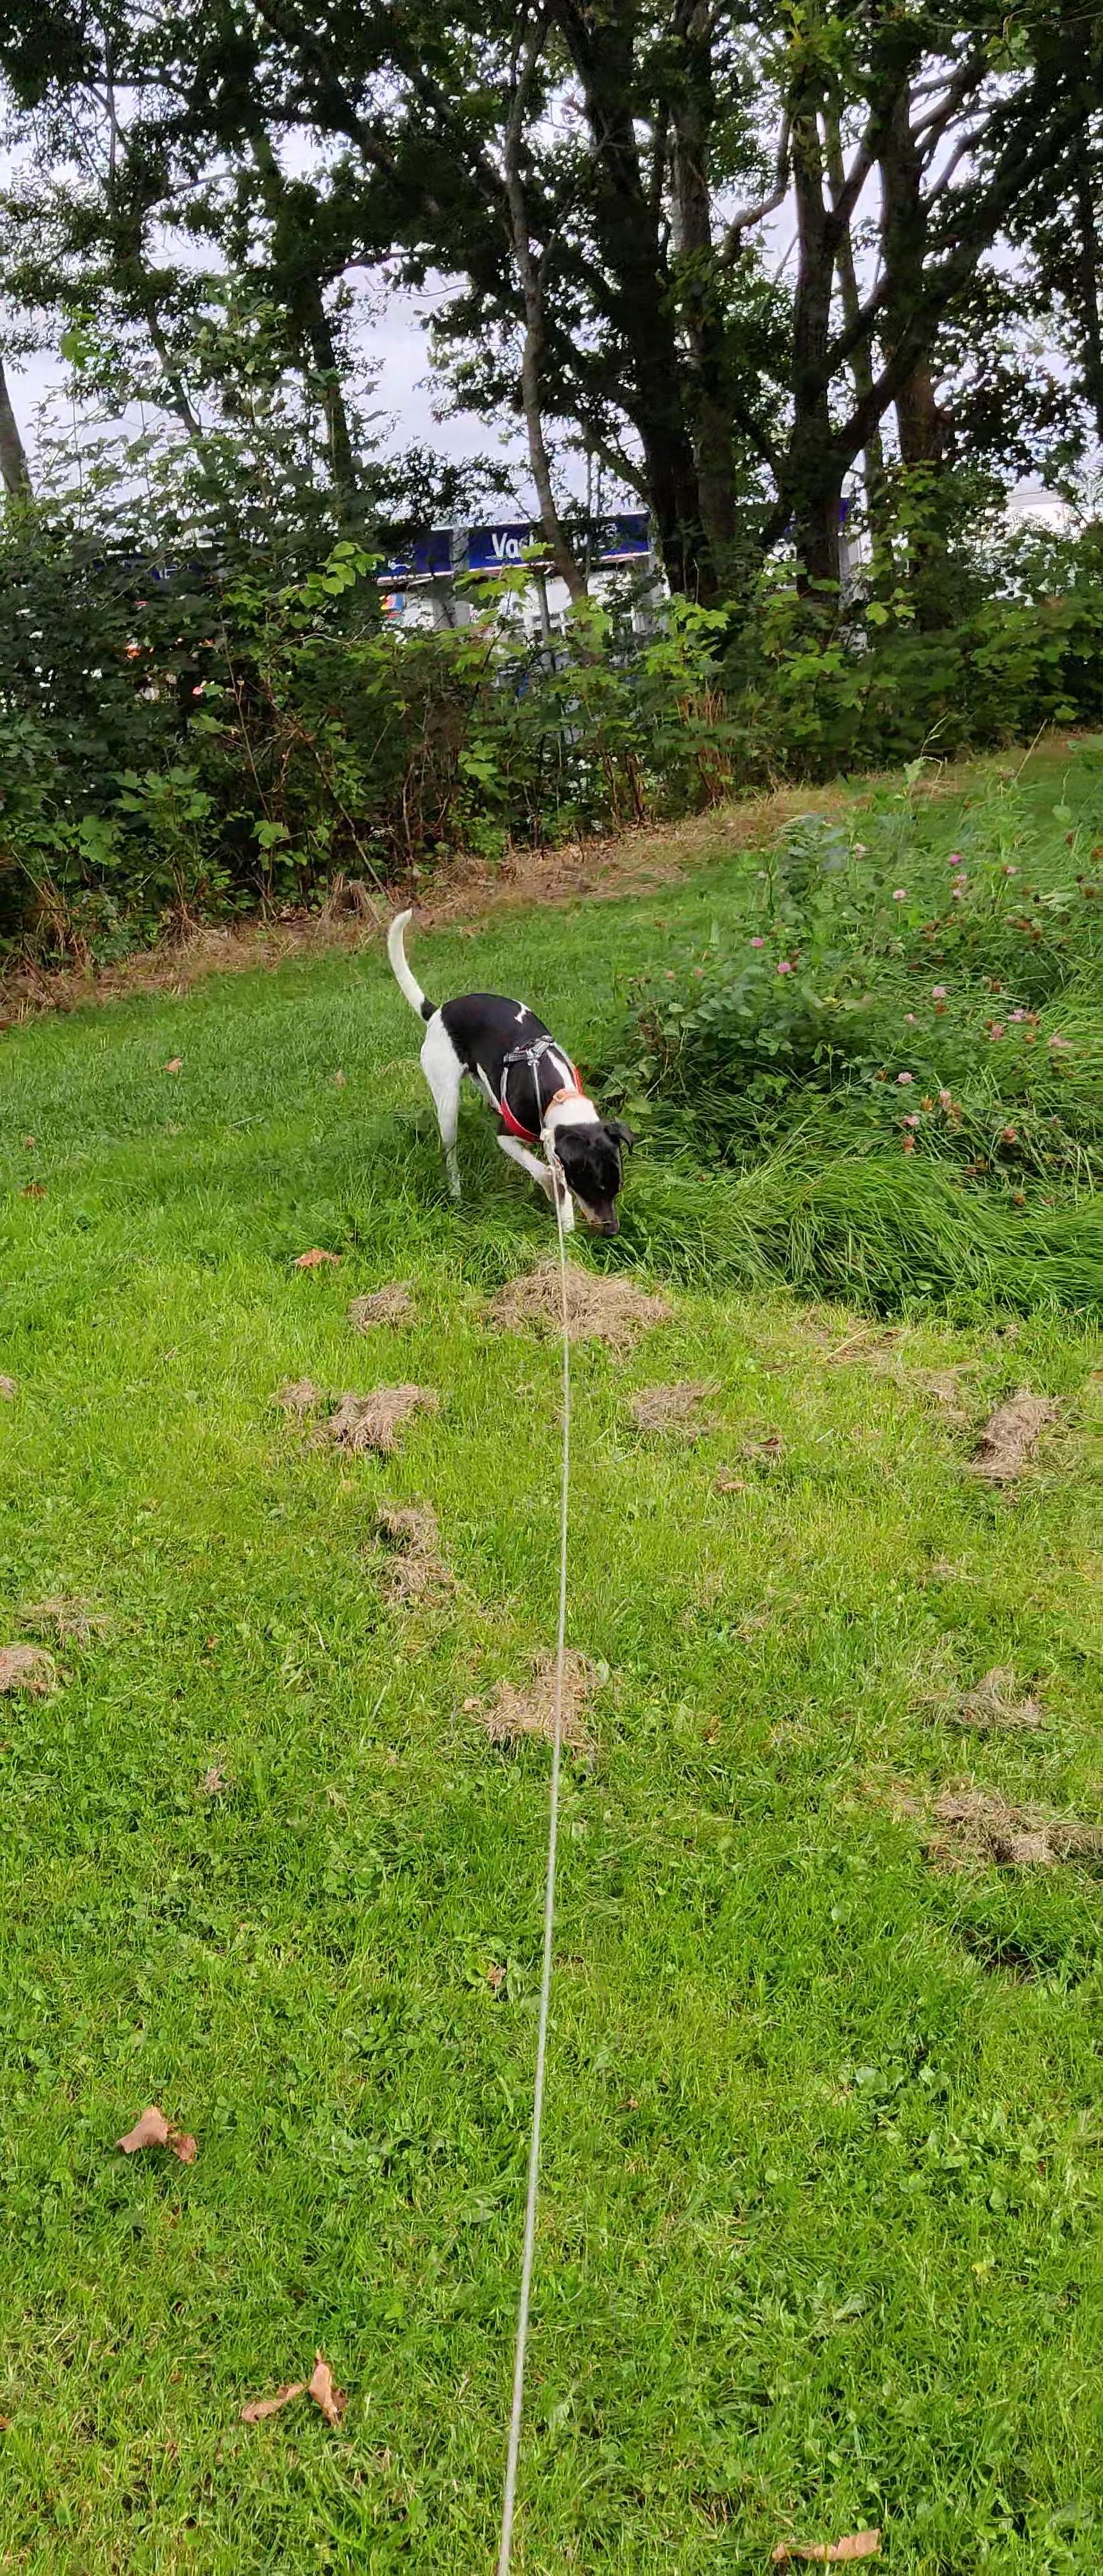Dog: (383, 902, 638, 1244)
